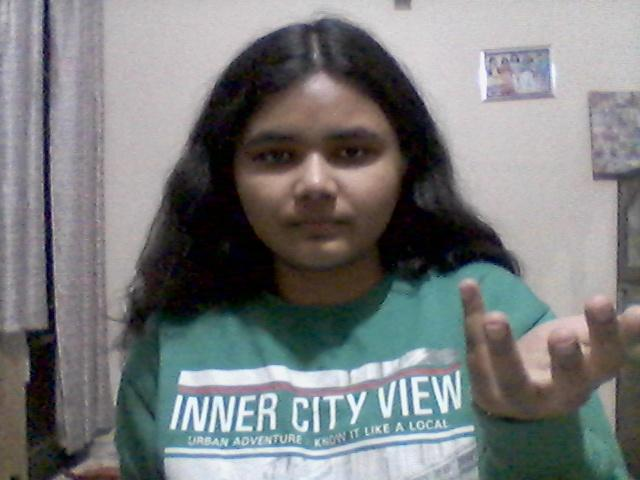what: (449, 270, 640, 422)
